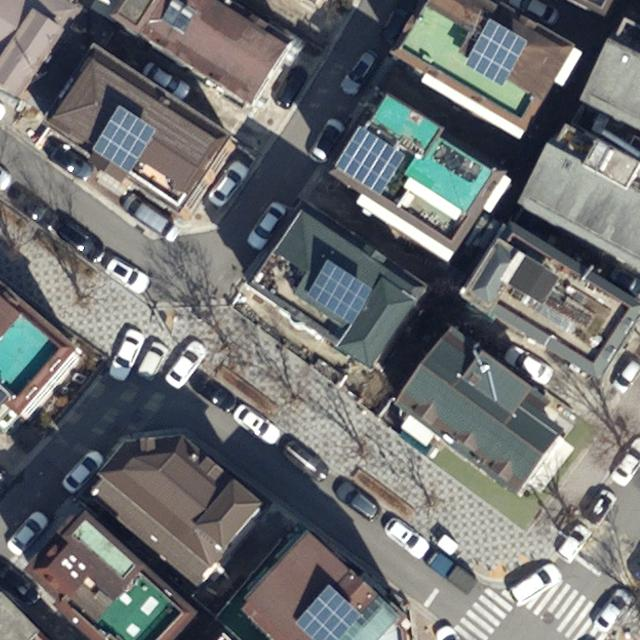panel: (333, 125, 407, 197), (90, 104, 159, 174), (306, 259, 375, 327), (463, 16, 525, 85), (291, 584, 363, 640)
